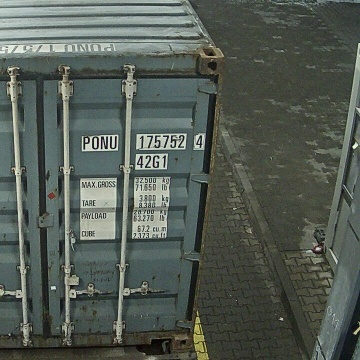serial_id: (83, 135, 203, 149)
